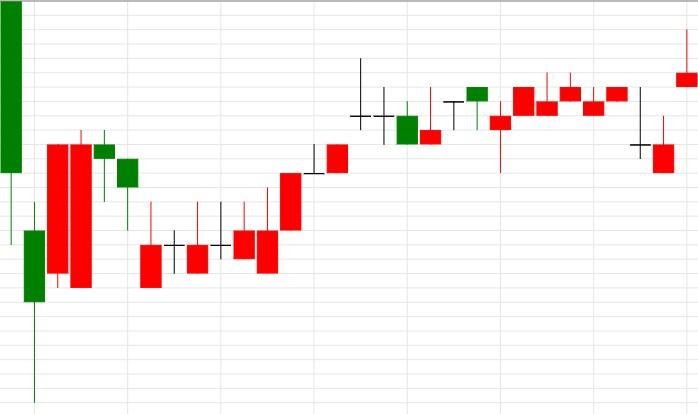inverse_hammer_rise: (351, 58, 441, 144)
